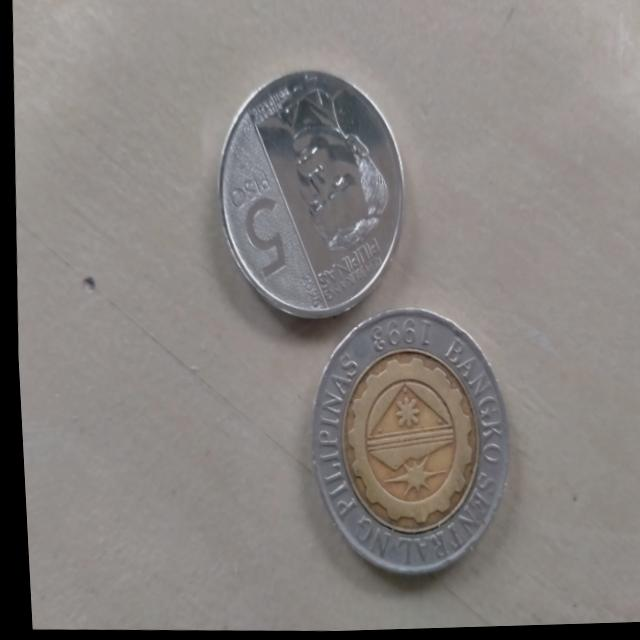10_Old_Back: (298, 297, 525, 585)
5_New_Front: (219, 168, 298, 288)
